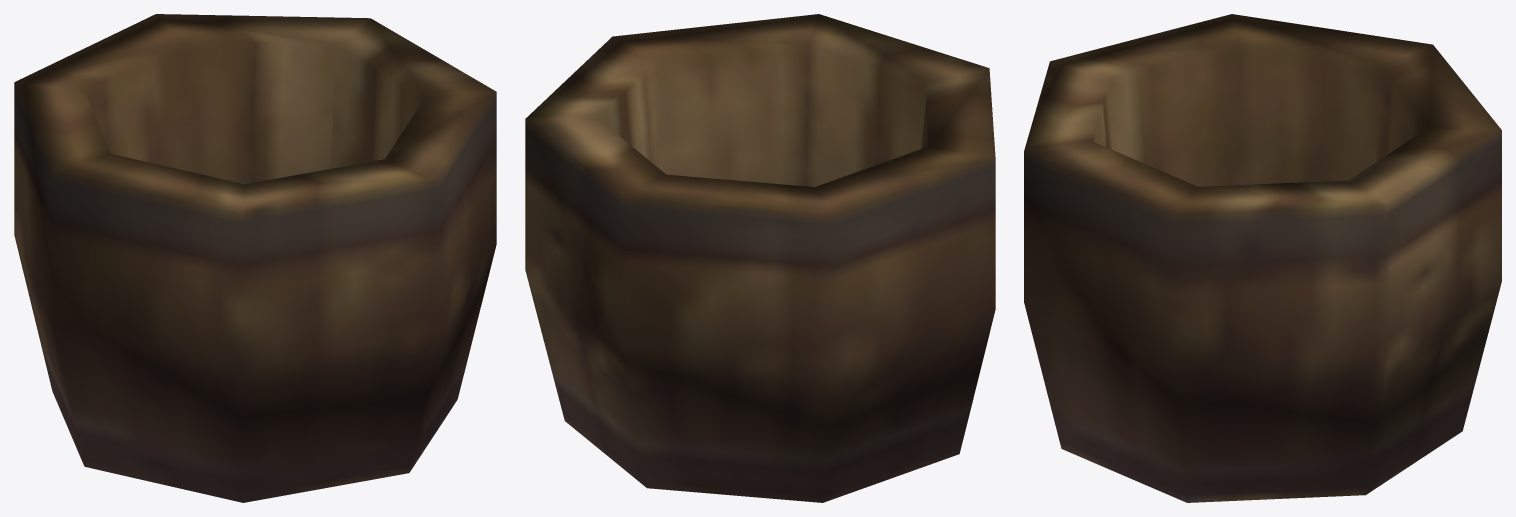
File: Basket.fbx
3 renders of one model, left to right at view 1: azimuth 30°, elevation 25°; view 2: azimuth 150°, elevation 25°; view 3: azimuth 270°, elevation 25°, orthographic.
Parts seen in each view (by area): view 1: Basket; view 2: Basket; view 3: Basket.
Boxes of the visible parts, bbox=[...] form: Basket: bbox=[14, 14, 496, 502]; Basket: bbox=[525, 14, 995, 502]; Basket: bbox=[1024, 14, 1501, 502].
Bounding box in the file's own units: 162 × 114 × 162.
